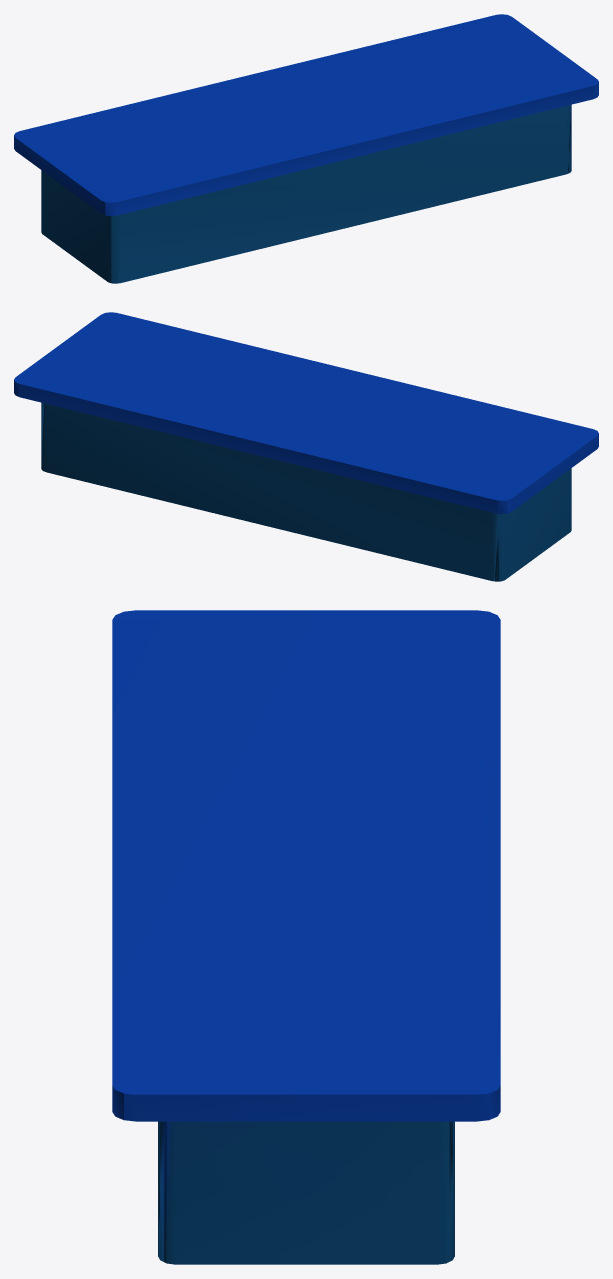
Rendered from table.fbx.
3 views of the same model, one above another, from view 1: azimuth 30°, elevation 25°; view 2: azimuth 150°, elevation 25°; view 3: azimuth 270°, elevation 25° (orthographic). The views are drawn at different scales.
Visible parts, largest first — view 1: table; view 2: table; view 3: table.
Part boxes in pixels (<box>): table: <box>14,14,598,283</box>; table: <box>14,312,598,581</box>; table: <box>112,610,500,1264</box>.
Size of the model in its own units: 915 by 164 by 310.
